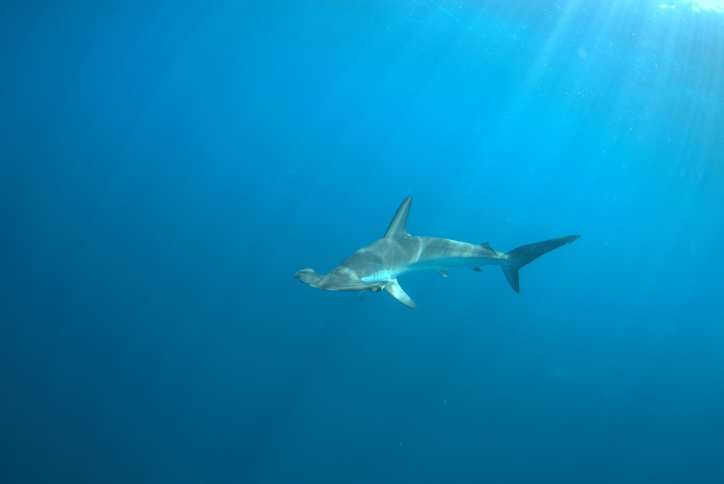Hammer: (279, 186, 605, 329)
